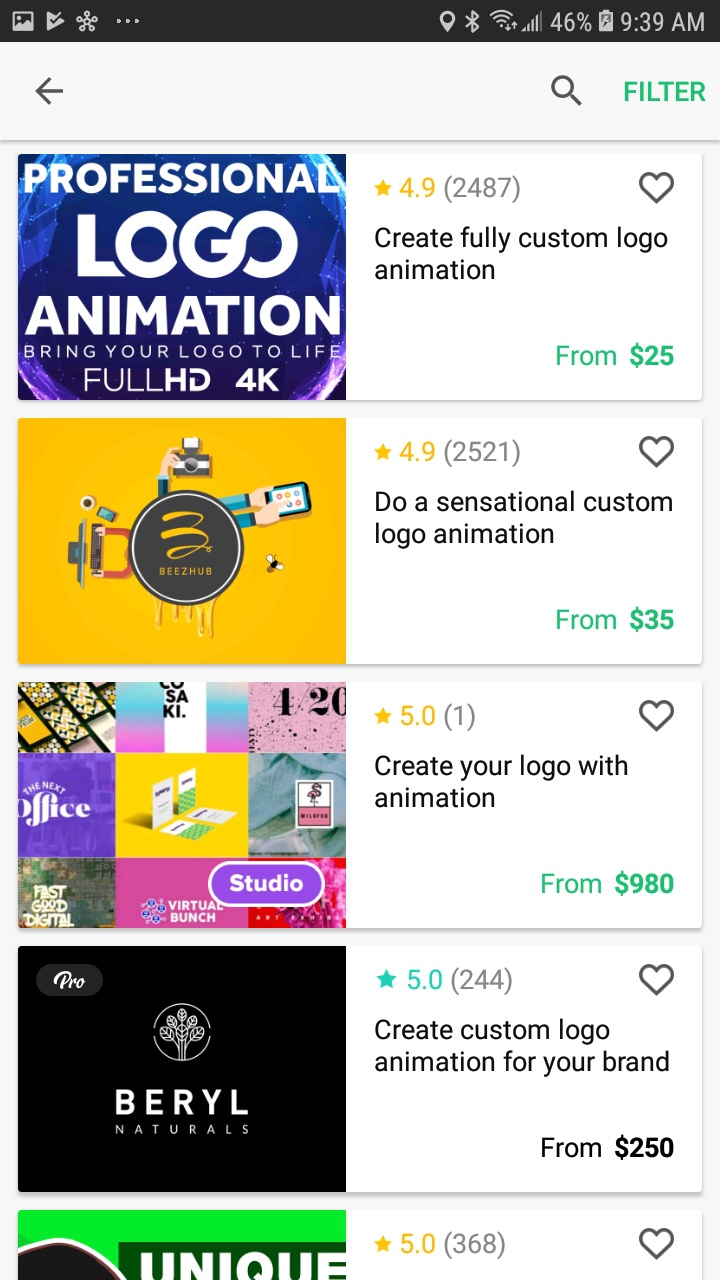Icon: (638, 963, 675, 997), (638, 1227, 675, 1261), (639, 172, 675, 206), (639, 436, 675, 469), (639, 700, 675, 733), (551, 76, 583, 108), (36, 77, 65, 106), (376, 969, 398, 989), (374, 179, 393, 197), (374, 1235, 393, 1253), (375, 443, 393, 461), (375, 707, 393, 725)
Image: (18, 946, 347, 1193), (18, 682, 347, 929), (18, 418, 347, 665), (18, 154, 347, 401), (19, 1209, 347, 1280)
Text: (376, 490, 673, 550), (375, 1018, 670, 1078), (374, 226, 668, 281), (374, 754, 628, 809), (541, 1133, 675, 1161), (399, 439, 521, 469), (541, 870, 674, 897), (400, 176, 521, 205), (557, 342, 675, 369), (407, 966, 513, 996), (400, 1230, 506, 1260), (556, 606, 674, 631), (401, 702, 476, 732), (624, 82, 706, 103)
UpperTaskBar: (1, 1, 720, 43)
